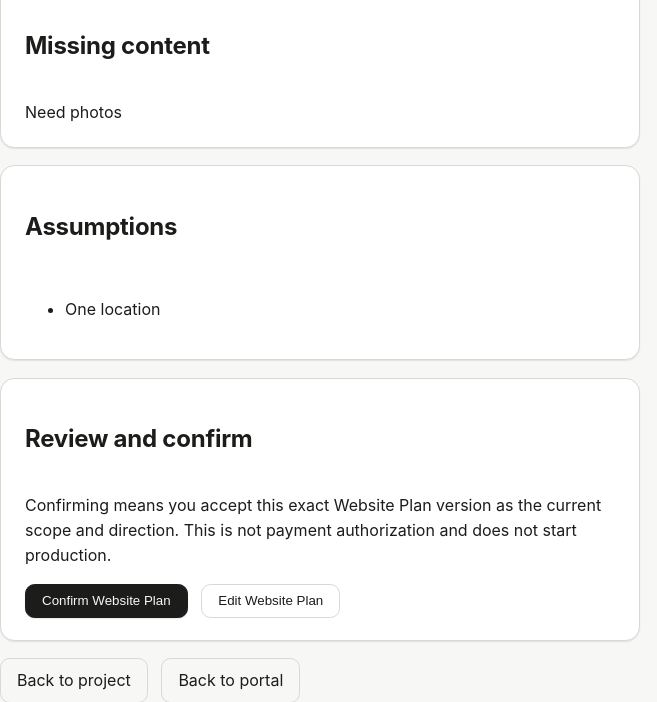
Test: WebsitePlanPanel › adds a page without origin and replaces P1 with returned P2
(page scrolled)
Click the button "Edit Website Plan": (271, 601) [201,584,340,618]
(page scrolled)
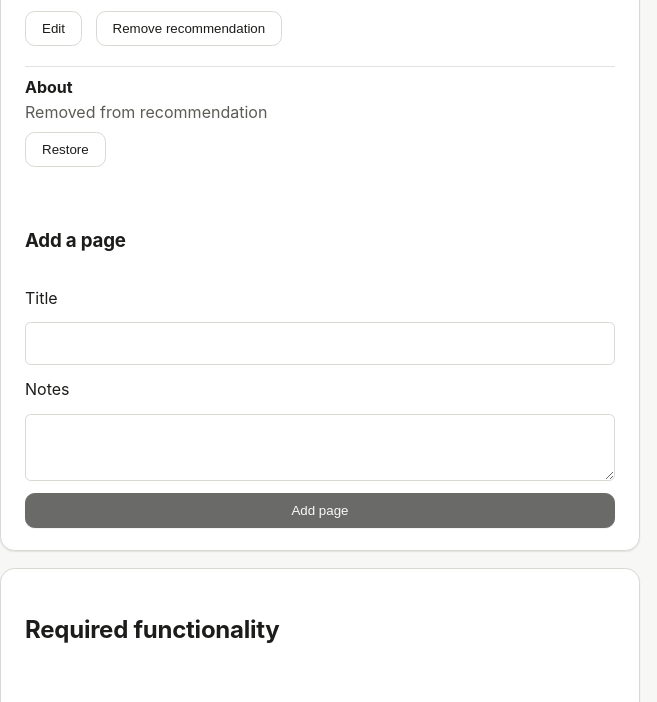
In the field labelled "Title": (320, 344) [25,322,615,365], type "Menu"
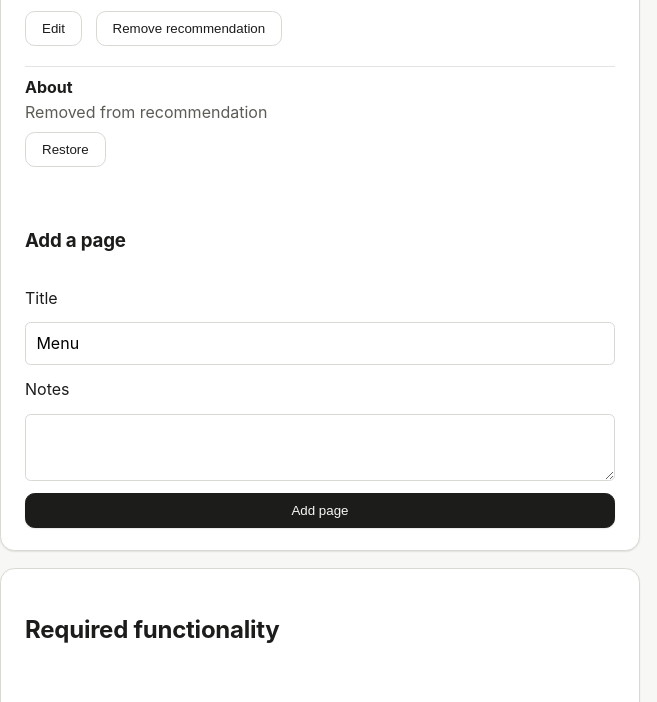
Click the button "Add page": (320, 511) [25,494,615,528]
(page scrolled)
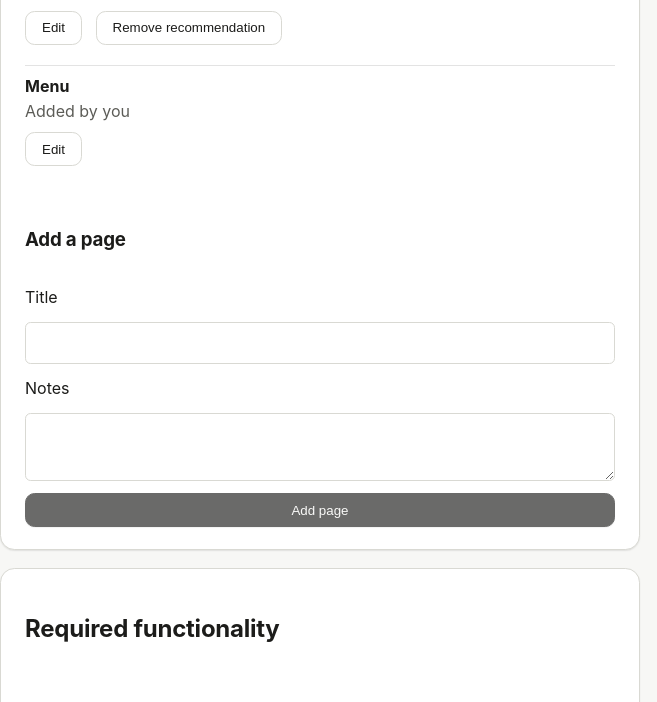
Check: the text "Added by you" is shown, box [25,101,130,121]
